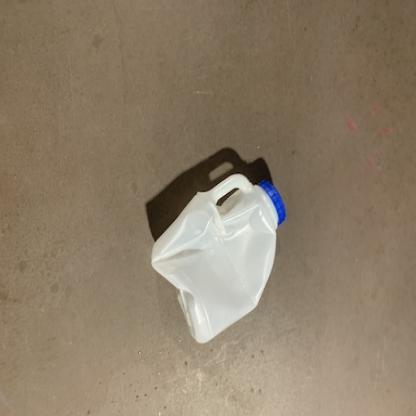trash: (150, 173, 290, 348)
